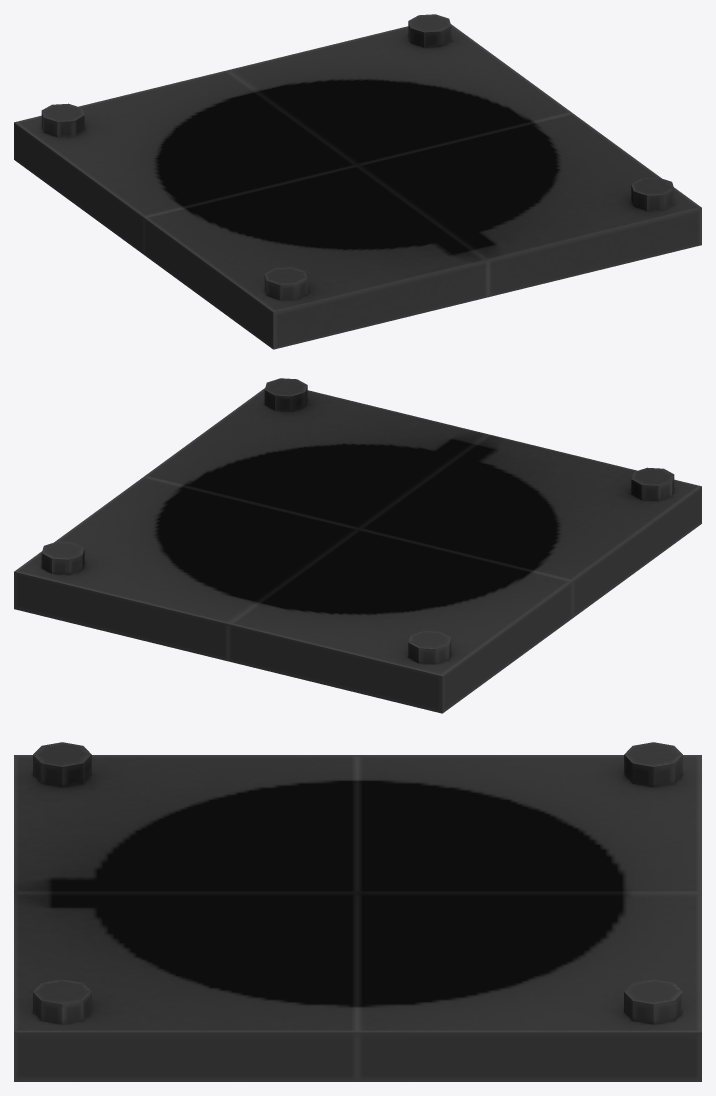
3 renders of one model, top to bottom at view 1: azimuth 30°, elevation 25°; view 2: azimuth 150°, elevation 25°; view 3: azimuth 270°, elevation 25°, orthographic. The views are drawn at different scales.
Parts seen in each view (by area): view 1: Predator-root; view 2: Predator-root; view 3: Predator-root.
Boxes of the visible parts, bbox=[...] form: Predator-root: bbox=[14, 14, 701, 349]; Predator-root: bbox=[14, 378, 701, 713]; Predator-root: bbox=[14, 742, 701, 1081].
Bounding box in the file's own units: 0.197 × 0.2066 × 0.0232.
